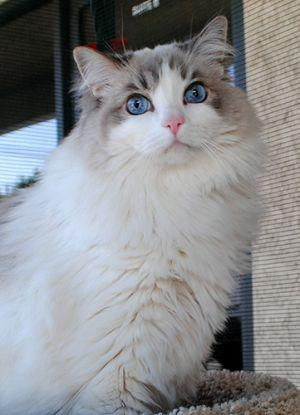ragdoll: (64, 6, 249, 195)
